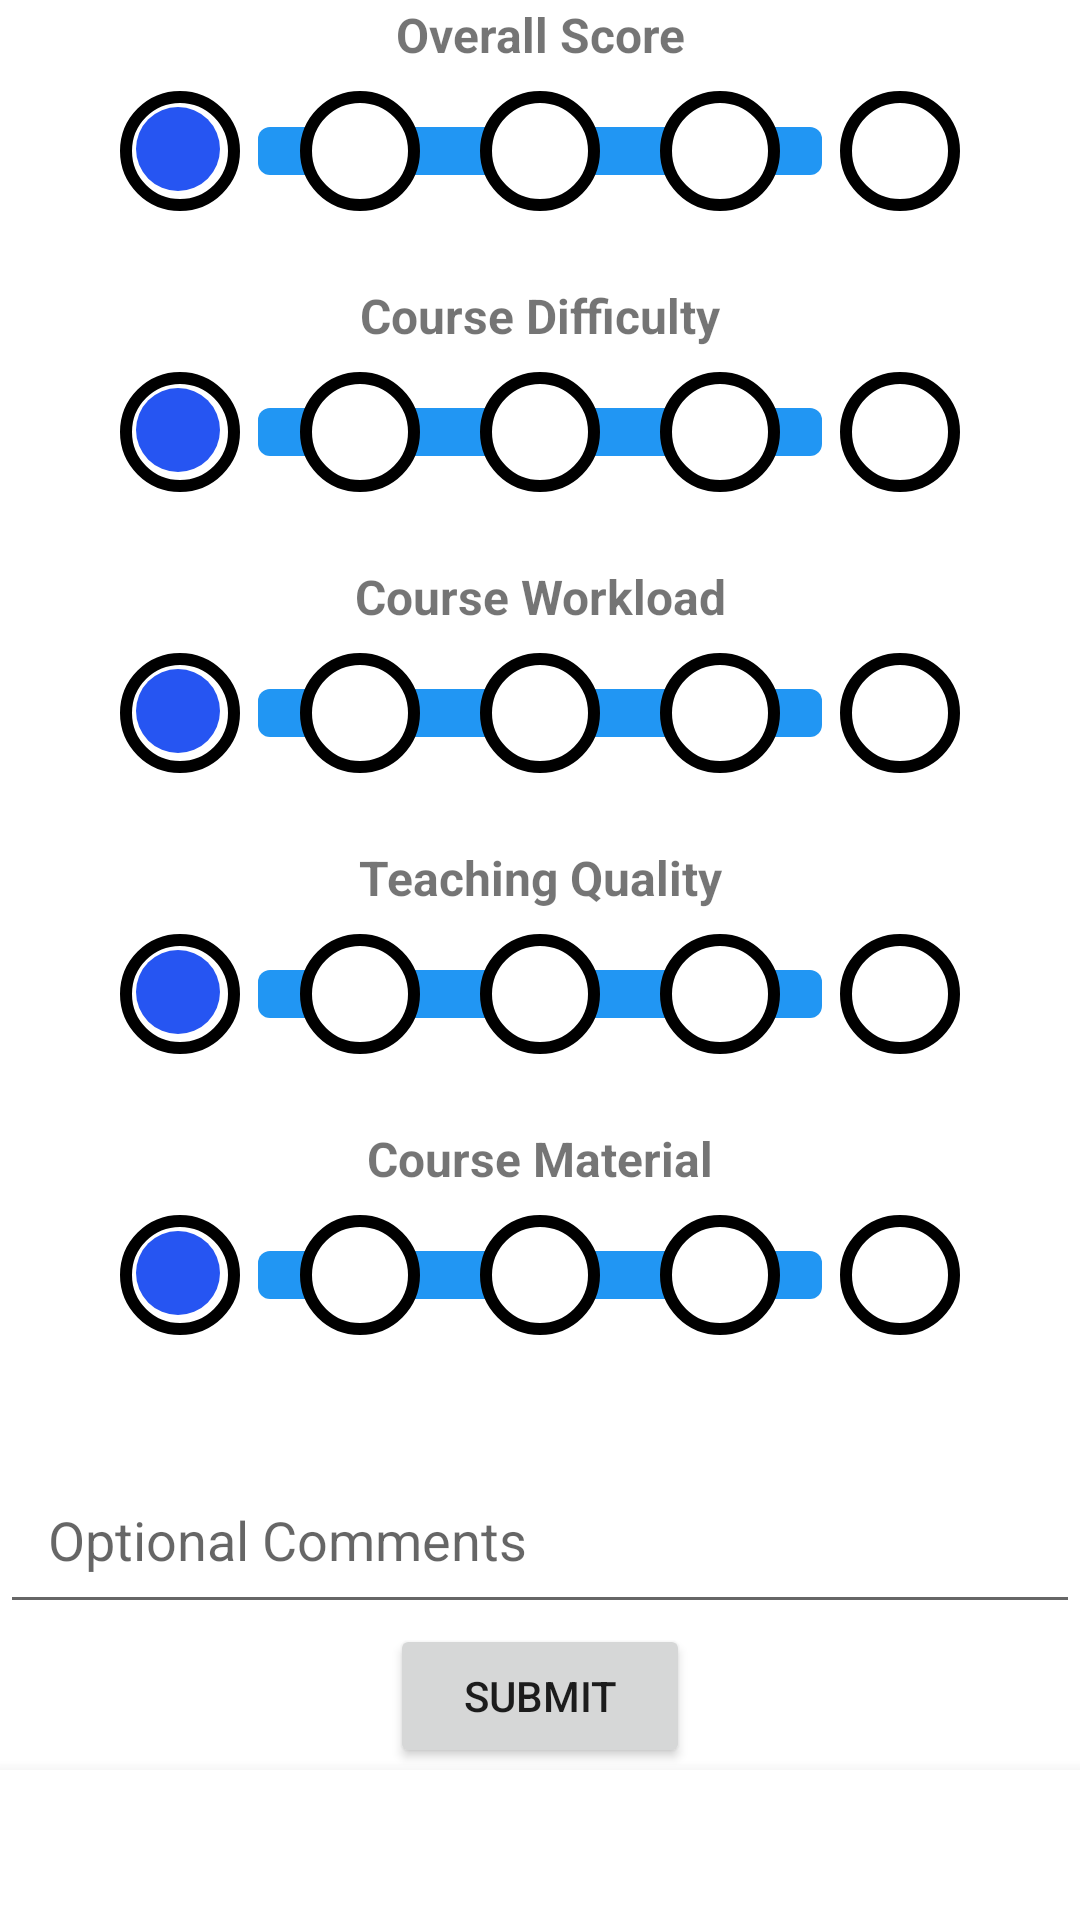

Named icons in this screenshot (1080*1920) and their centers, (x,y):
slider dot: (180,151), (180,432), (180,713), (180,994), (180,1275)
